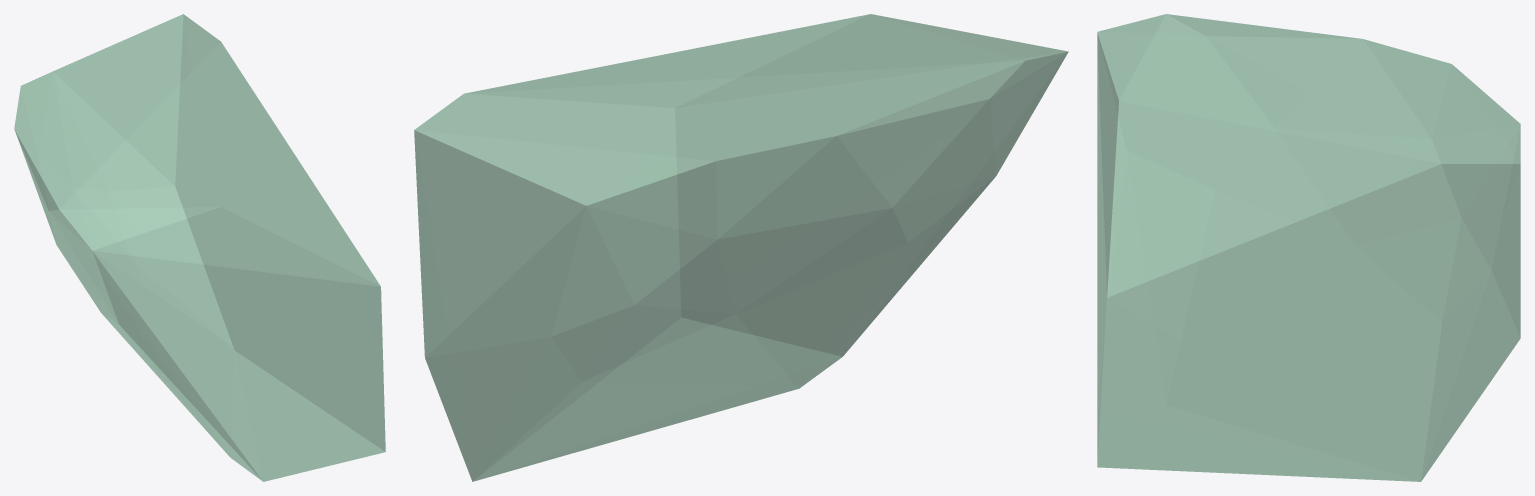
3 renders of one model, left to right at view 1: azimuth 30°, elevation 25°; view 2: azimuth 150°, elevation 25°; view 3: azimuth 270°, elevation 25°, orthographic. The views are drawn at different scales.
Parts seen in each view (by area): view 1: Shape_IndexedFaceSet.018_Shape_IndexedFaceSet.18171; view 2: Shape_IndexedFaceSet.018_Shape_IndexedFaceSet.18171; view 3: Shape_IndexedFaceSet.018_Shape_IndexedFaceSet.18171.
Part boxes in pixels (x1,y1,x2,y2): Shape_IndexedFaceSet.018_Shape_IndexedFaceSet.18171: (14, 14, 385, 481); Shape_IndexedFaceSet.018_Shape_IndexedFaceSet.18171: (414, 14, 1068, 481); Shape_IndexedFaceSet.018_Shape_IndexedFaceSet.18171: (1097, 14, 1520, 481).
Size of the model in its own units: 0.274 by 0.2665 by 0.3235.
